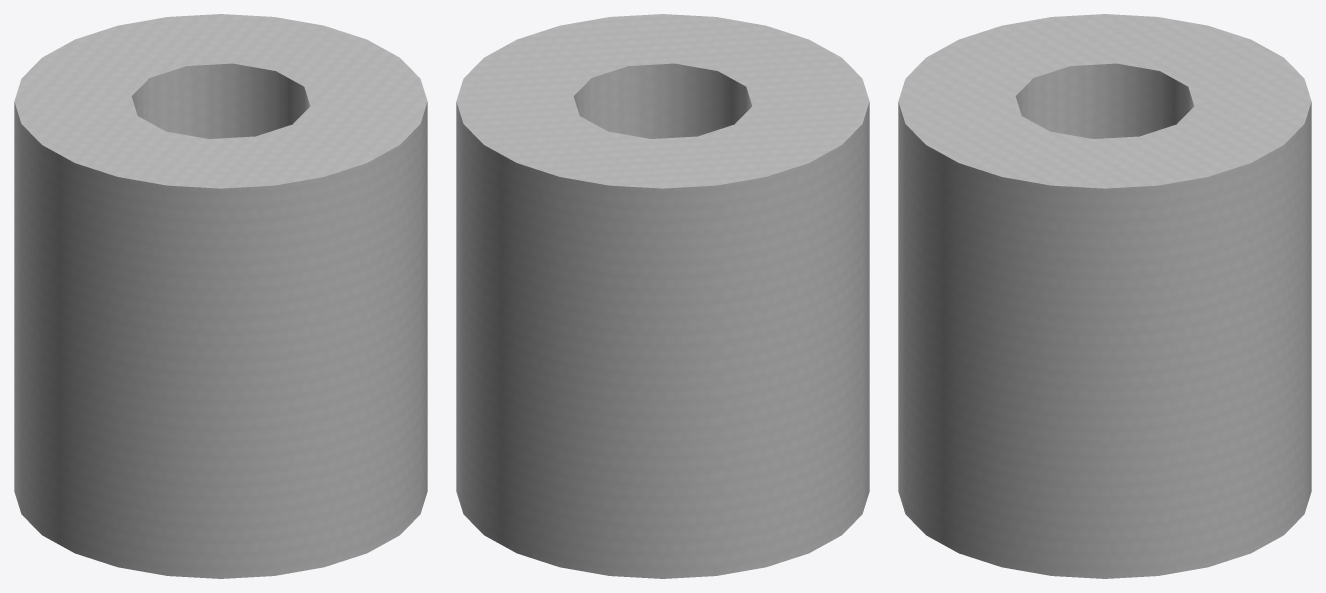
File: Paper.fbx
3 views of the same model, side by side, from view 1: azimuth 30°, elevation 25°; view 2: azimuth 150°, elevation 25°; view 3: azimuth 270°, elevation 25° (orthographic).
Parts seen in each view (by area): view 1: Paper; view 2: Paper; view 3: Paper.
Boxes of the visible parts, x1,y1,x2,y2 form: Paper: [14, 14, 427, 578]; Paper: [456, 14, 869, 578]; Paper: [898, 14, 1311, 578].
Bounding box in the file's own units: 10 × 10.42 × 10.
